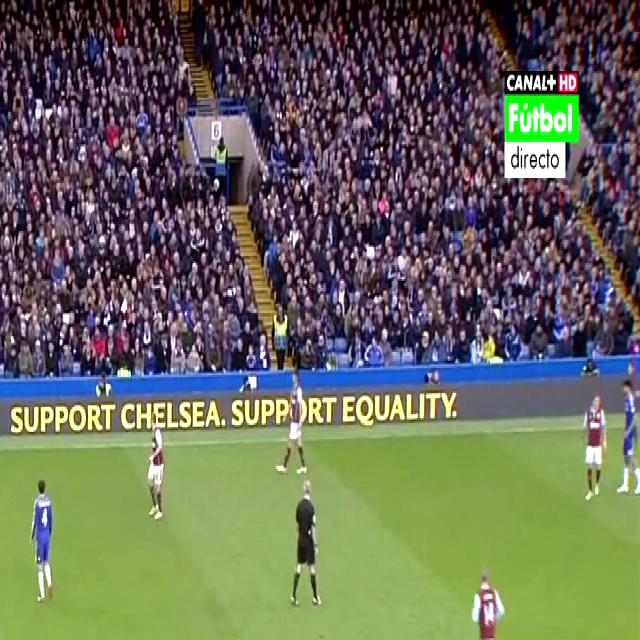referee: (286, 469, 324, 624)
soccer-player: (22, 471, 62, 611), (579, 379, 612, 510), (276, 361, 312, 480), (466, 554, 512, 640), (142, 411, 174, 529), (612, 378, 638, 507)
